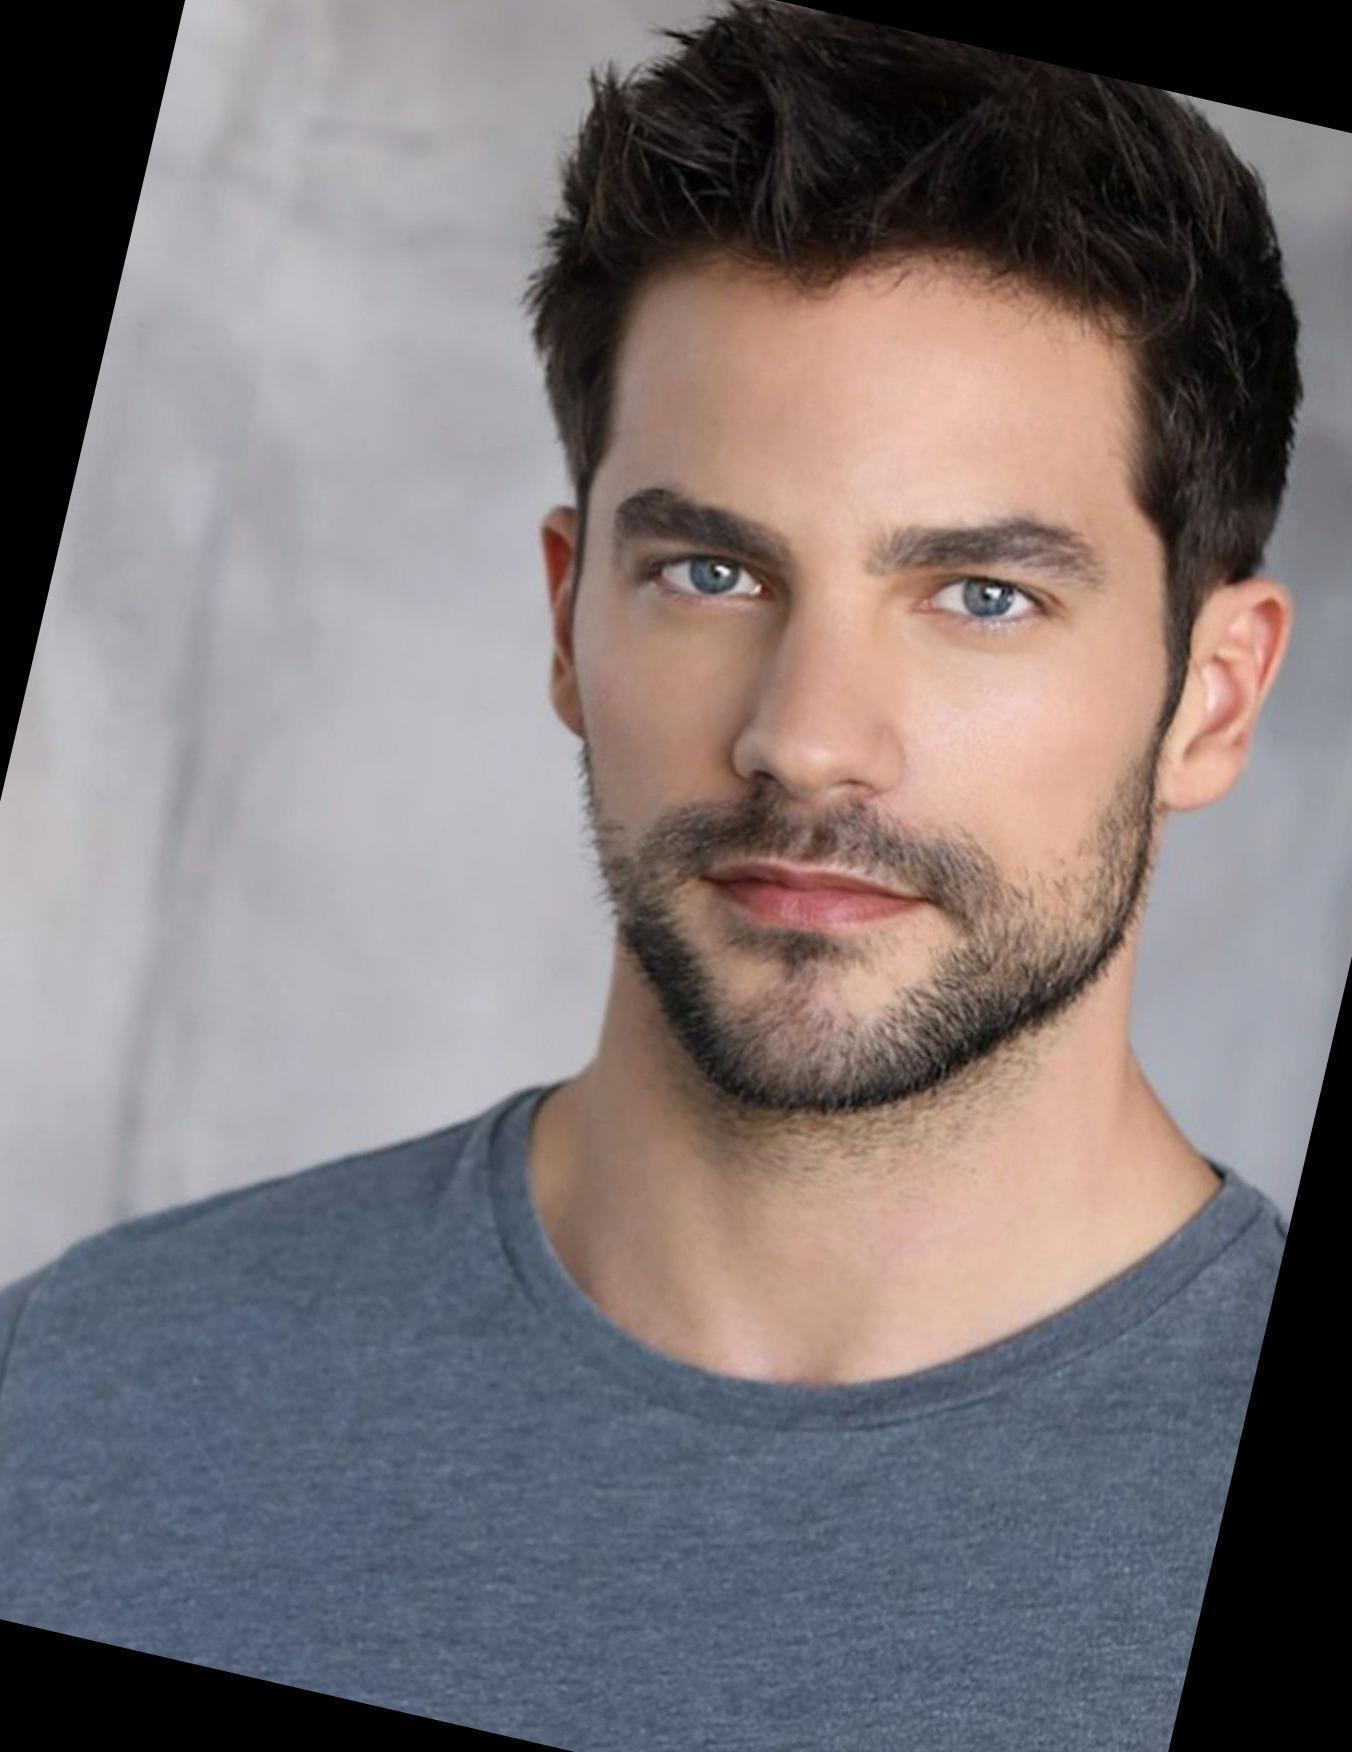Sober: (608, 301, 1130, 1056)
